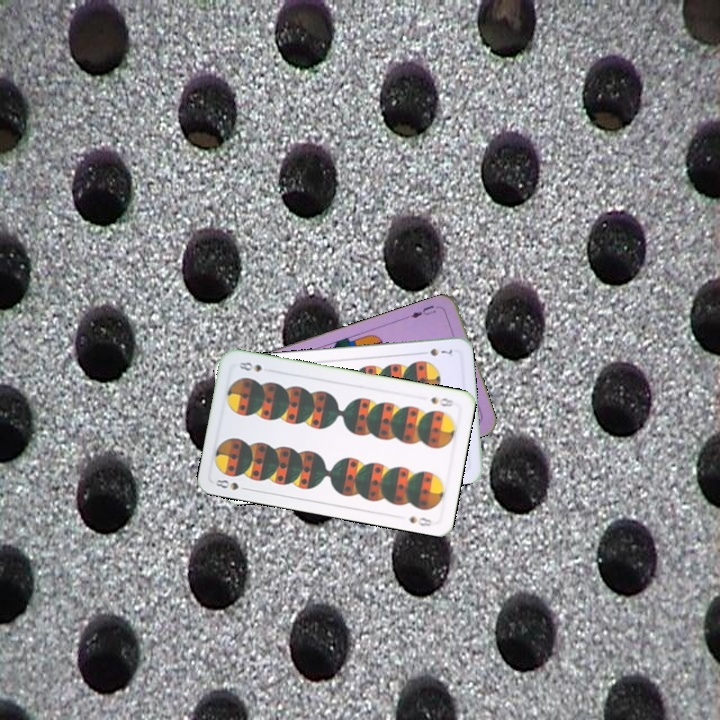EU: (407, 301, 438, 321)
S7: (416, 344, 455, 359)
S8: (212, 475, 252, 493), (427, 393, 459, 410)
